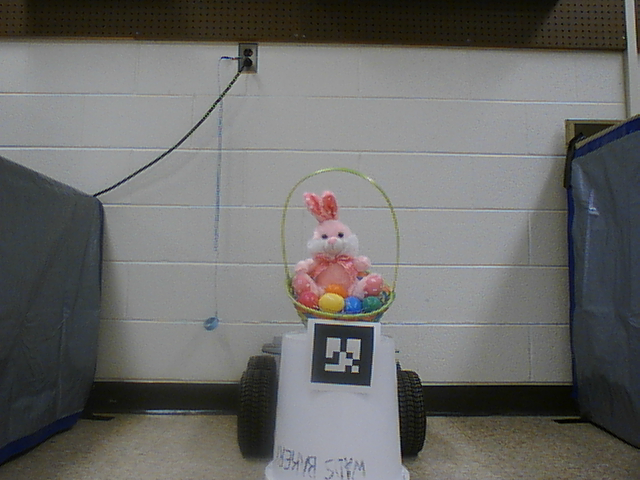bunny: (276, 158, 403, 330)
